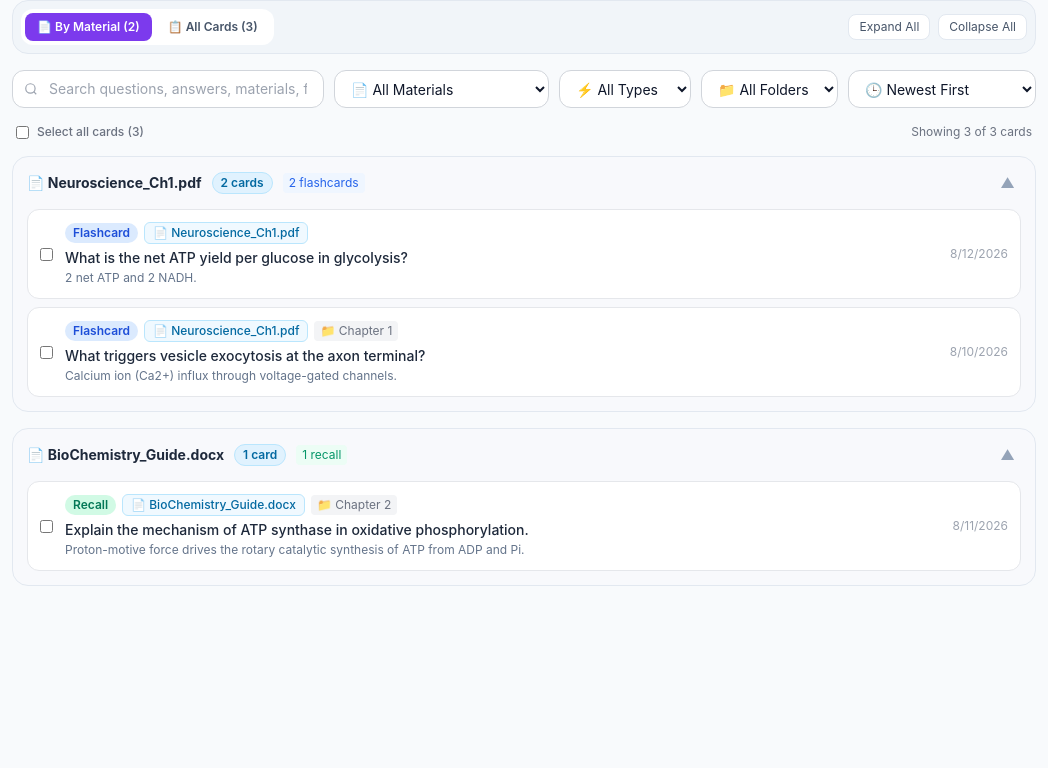
Test: CardBrowser - Material-Based Organization & Search › handles collapsible accordions in material view
This screenshot has width=1048, height=768.
Click the button "Collapse All".
click(983, 27)  # box [938,14,1027,40]
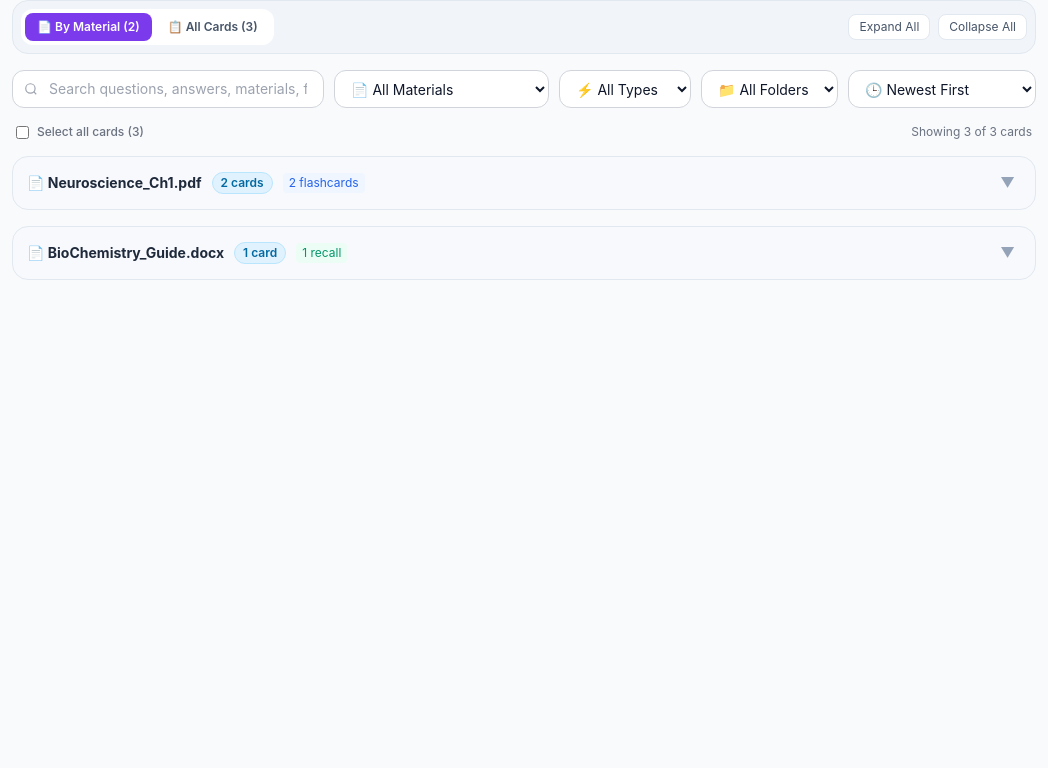
Expected: the button "What triggers vesicle exocytosis" is gone
Click the button "Expand All".
click(889, 27)  # box [848,14,930,40]
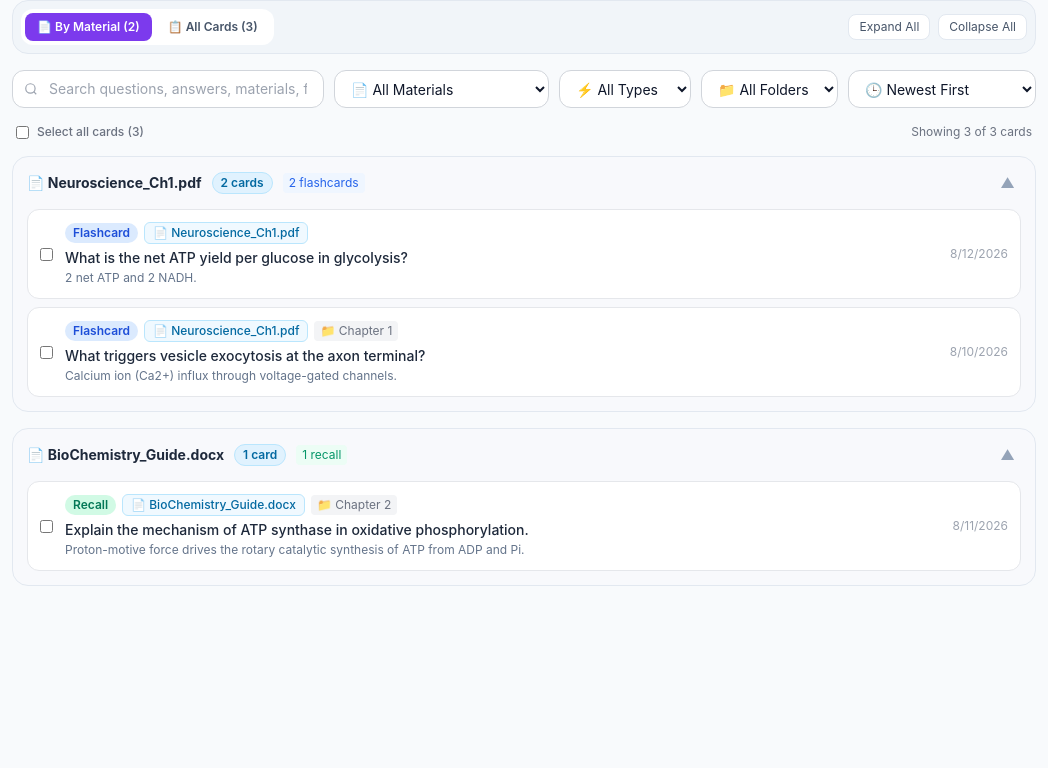
Expected: the text "What triggers vesicle exocytosis at the axon terminal?" is shown, [65,347,425,364]
